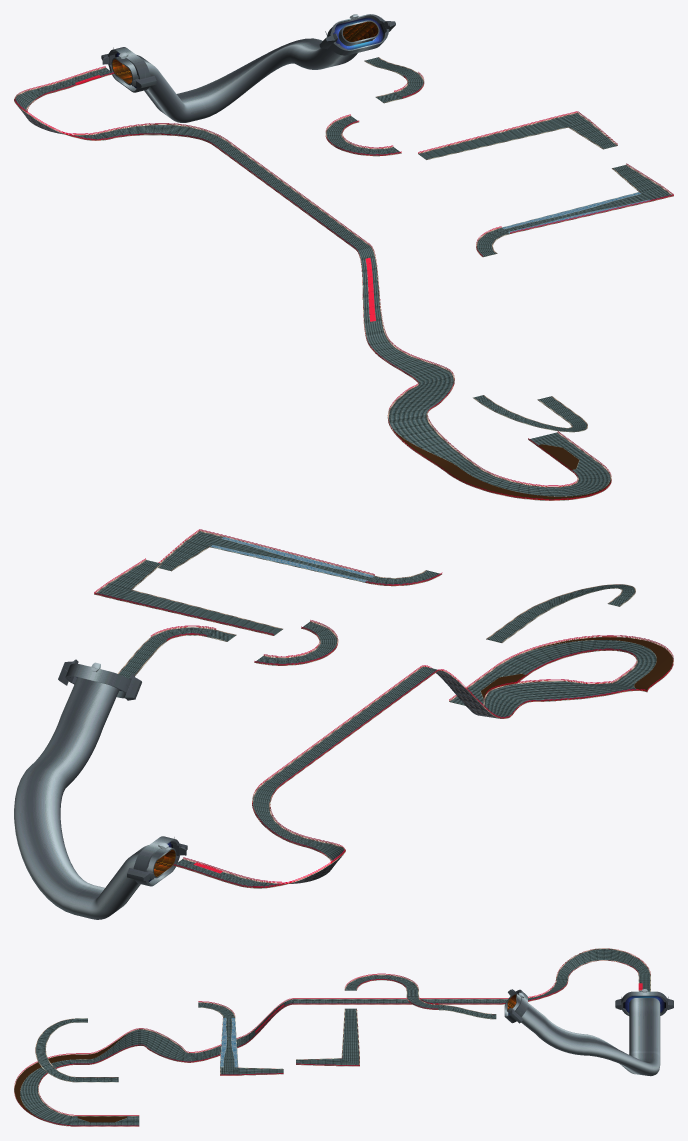
Rendered from track.glb.
3 views of the same model, one above another, from view 1: azimuth 30°, elevation 25°; view 2: azimuth 150°, elevation 25°; view 3: azimuth 270°, elevation 25° (orthographic). The views are drawn at different scales.
Parts seen in each view (by area): view 1: C03_ROAD04, C03_TUNNEL_OUT03, C03_GUARDRAIL01, TUNNEL_OUT03_PLUS, TUNNEL_OUT01_PLUS, C03_ICE01, C03_TUNNEL_LIGHT; view 2: C03_ROAD04, C03_TUNNEL_OUT03, C03_GUARDRAIL01, TUNNEL_OUT03_PLUS, TUNNEL_OUT01_PLUS, C03_ICE01; view 3: C03_ROAD04, C03_TUNNEL_OUT03, C03_GUARDRAIL01, TUNNEL_OUT01_PLUS, TUNNEL_OUT03_PLUS, C03_ICE01.
Part boxes in pixels (left/top/right/bottom): C03_ROAD04: left=14, top=57, right=673, bottom=500; C03_TUNNEL_OUT03: left=111, top=20, right=379, bottom=122; C03_GUARDRAIL01: left=14, top=66, right=673, bottom=500; TUNNEL_OUT03_PLUS: left=319, top=14, right=395, bottom=55; TUNNEL_OUT01_PLUS: left=101, top=47, right=156, bottom=92; C03_ICE01: left=502, top=192, right=650, bottom=233; C03_TUNNEL_LIGHT: left=112, top=21, right=378, bottom=83; C03_ROAD04: left=94, top=530, right=673, bottom=888; C03_TUNNEL_OUT03: left=14, top=677, right=176, bottom=919; C03_GUARDRAIL01: left=94, top=529, right=673, bottom=887; TUNNEL_OUT03_PLUS: left=58, top=659, right=141, bottom=700; TUNNEL_OUT01_PLUS: left=127, top=836, right=187, bottom=886; C03_ICE01: left=210, top=537, right=374, bottom=582; C03_ROAD04: left=14, top=948, right=650, bottom=1126; C03_TUNNEL_OUT03: left=507, top=993, right=660, bottom=1076; C03_GUARDRAIL01: left=14, top=948, right=650, bottom=1126; TUNNEL_OUT01_PLUS: left=615, top=989, right=673, bottom=1015; TUNNEL_OUT03_PLUS: left=504, top=989, right=527, bottom=1023; C03_ICE01: left=220, top=1018, right=237, bottom=1067.
Size of the model in its own units: 1576 by 825 by 3200.
54 materials, 54 textured.
